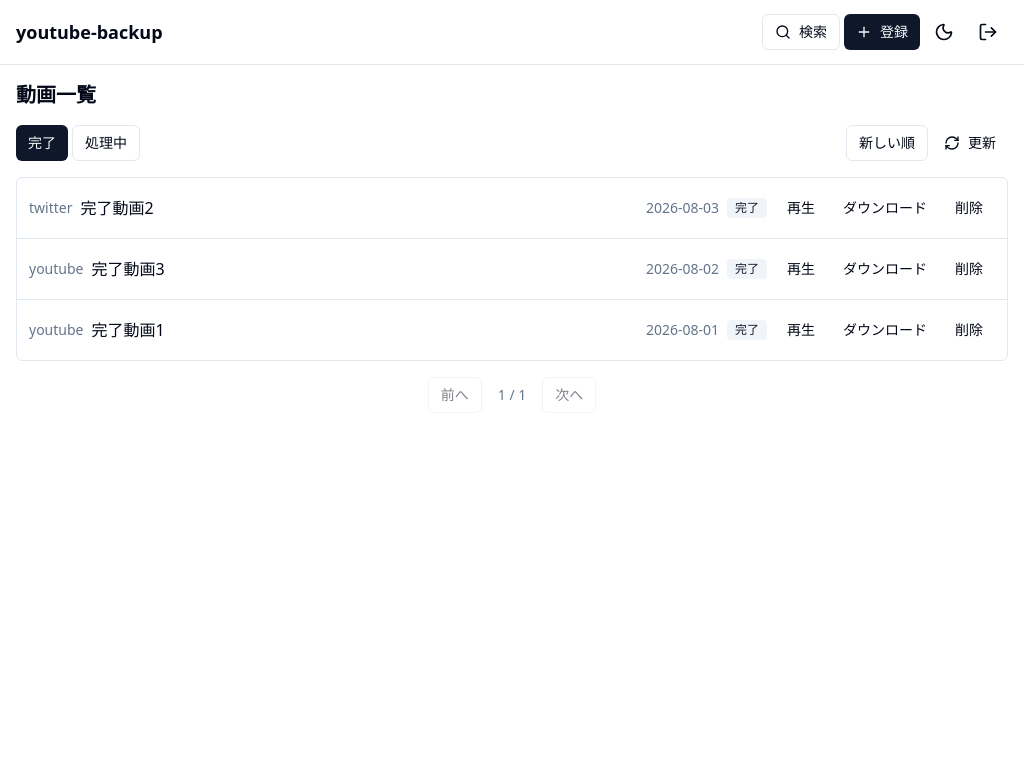
Test case: 動画検索 結合（ヘッダ→ダイアログ→検索 / US3.1・FR3.1・C5・OQ-C2） › 存在しない id は「見つからない」旨を表示する（AC / error-path）
This screenshot has width=1024, height=768.
Click the button with aria-label "動画を検索" at coordinates (801, 32), box [762,14,840,50]
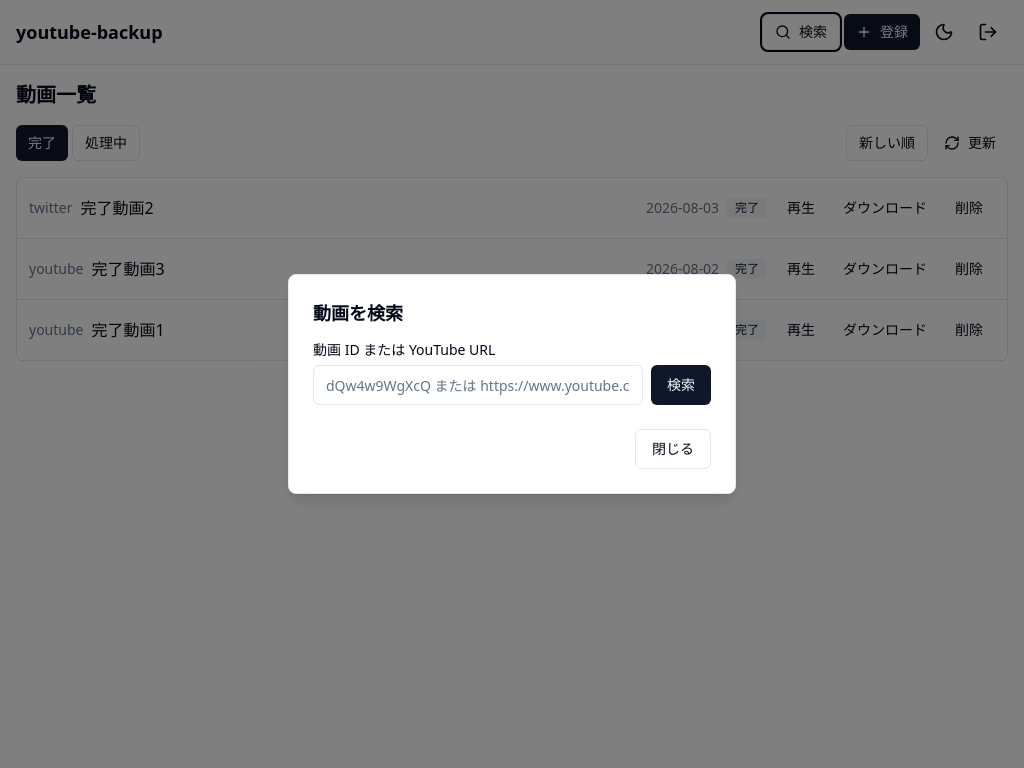
Now the dialog is shown, box [288,274,736,494]
Type "missing" into the field labelled "動画 ID または YouTube URL" at coordinates (478, 385), box [313,365,643,405]
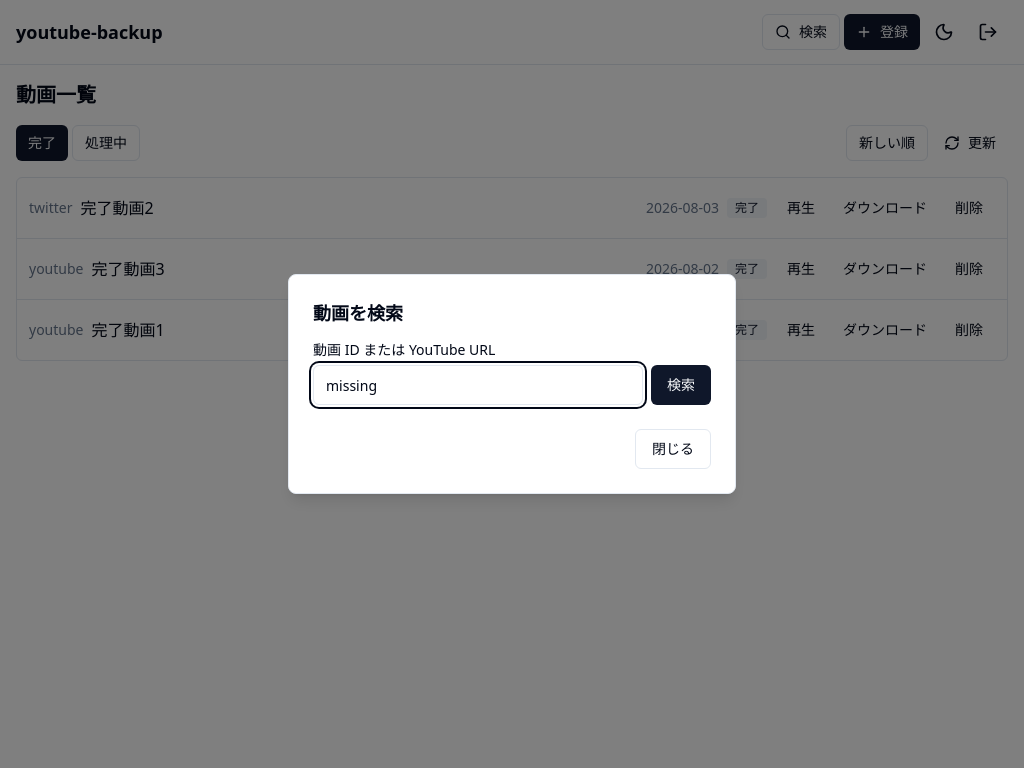
Click the button "検索" at coordinates (681, 385), box [651,365,711,405]
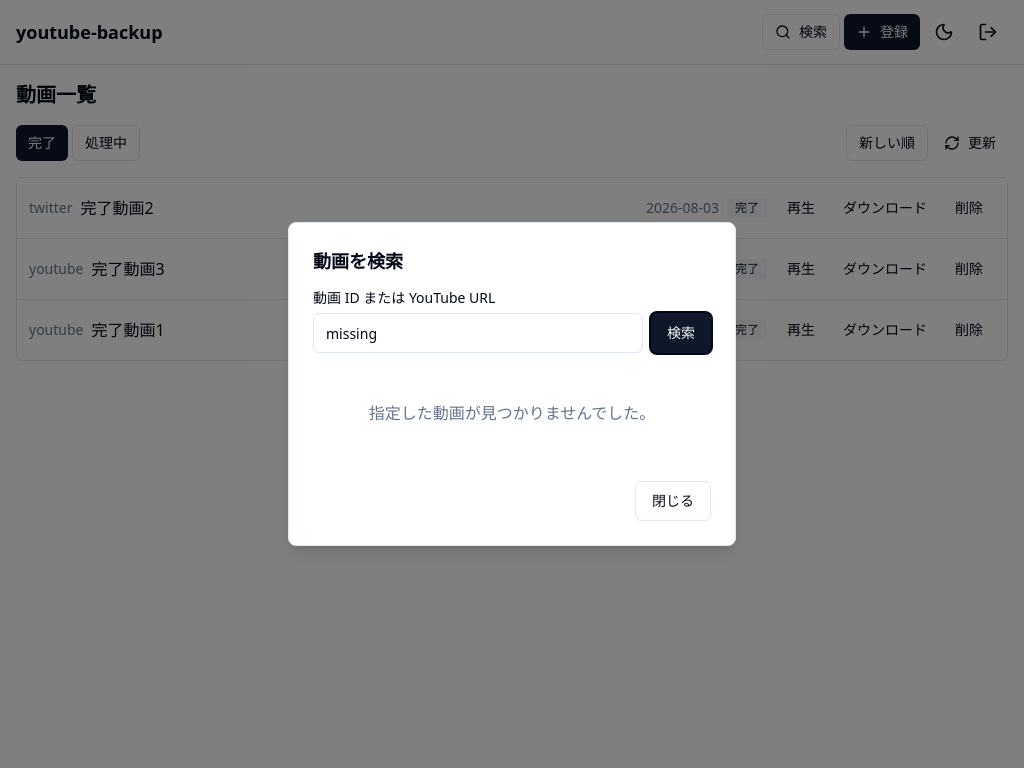
Now the text "指定した動画が見つかりませんでした。" is shown, box [369,402,655,424]
